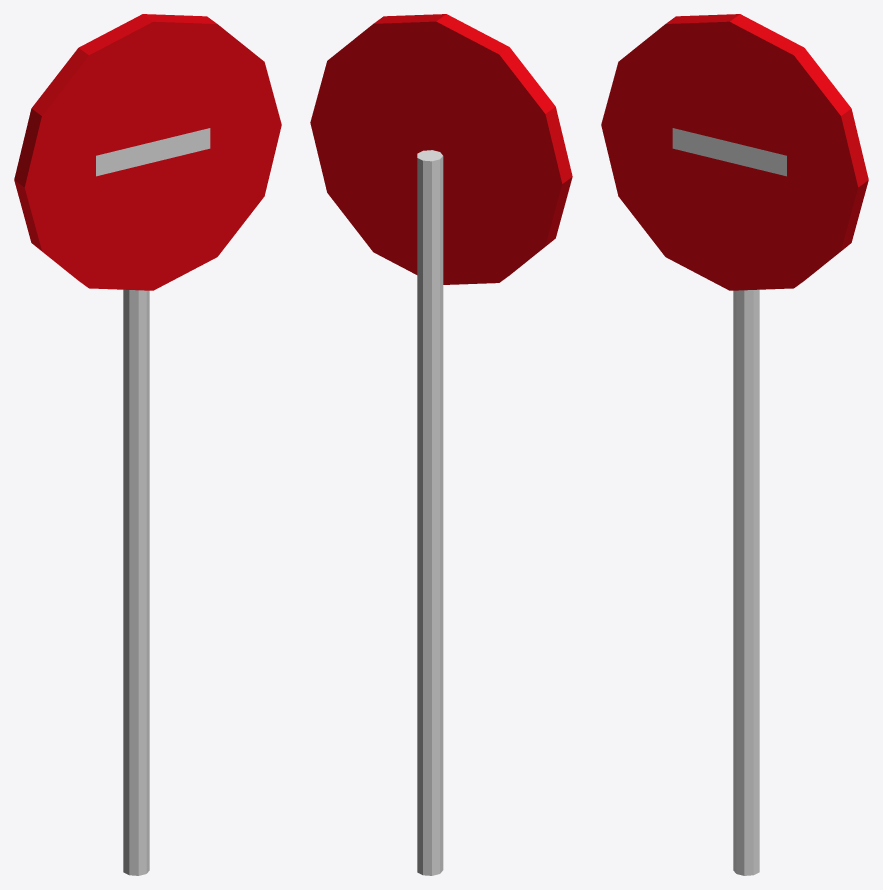
The model's file is OneWaySign.fbx.
The picture shows the model from 3 angles, left to right: view 1: azimuth 30°, elevation 25°; view 2: azimuth 150°, elevation 25°; view 3: azimuth 330°, elevation 25°; orthographic projection. The views are drawn at different scales.
Visible parts, largest first — view 1: Cylinder.001; view 2: Cylinder.001; view 3: Cylinder.001.
Boxes of the visible parts, bbox=[...] form: Cylinder.001: bbox=[14, 14, 281, 875]; Cylinder.001: bbox=[310, 14, 572, 875]; Cylinder.001: bbox=[601, 14, 868, 875].
Size of the model in its own units: 1.11 by 3.54 by 0.1799.
